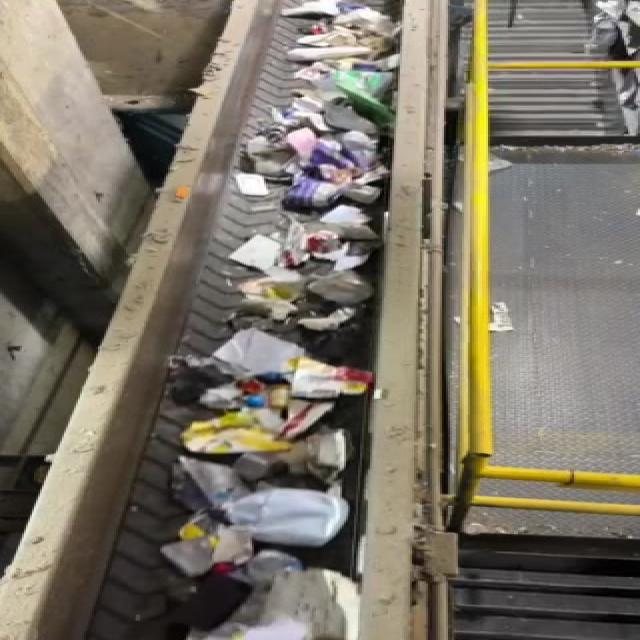hdpe: (202, 490, 364, 549)
paper: (264, 566, 369, 639), (167, 408, 295, 458)
pp: (160, 567, 252, 633), (308, 424, 358, 478)
